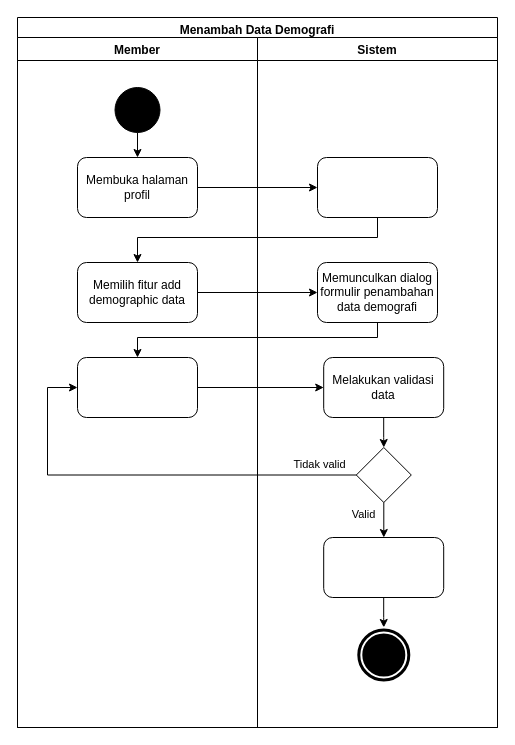
The diagram is 515 pixels wide and 745 high, and some of its shapes have lost their labels. Each missing label, with the box of its shape:
Menampilkan halaman profil: (316, 156, 438, 218)
Mengisi formulir: (76, 356, 198, 418)
Menyimpan data: (323, 536, 444, 598)
